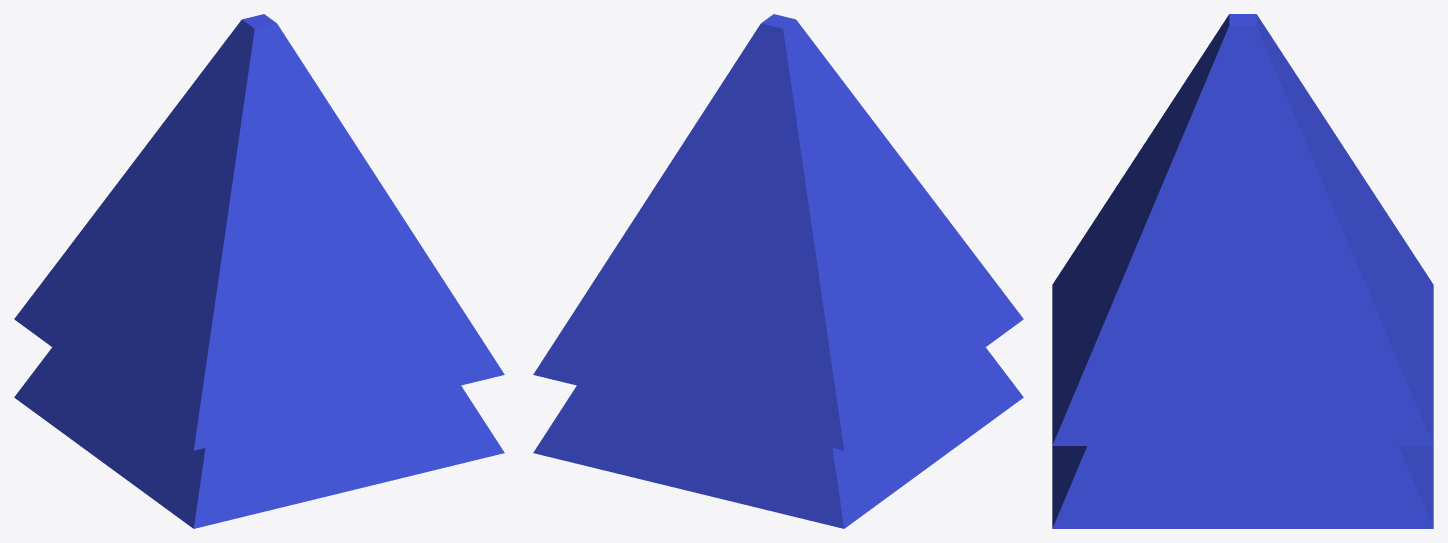
The model's file is player.glb.
The picture shows the model from 3 angles, left to right: view 1: azimuth 30°, elevation 25°; view 2: azimuth 150°, elevation 25°; view 3: azimuth 270°, elevation 25°; orthographic projection. The views are drawn at different scales.
Visible parts, largest first — view 1: Cube.001, Cube.002; view 2: Cube.001, Cube.002; view 3: Cube.001, Cube.002.
Boxes of the visible parts, x1,y1,x2,y2 form: Cube.001: (14,14,504,450); Cube.002: (14,347,504,528); Cube.001: (533,14,1023,450); Cube.002: (533,347,1023,528); Cube.001: (1052,14,1433,445); Cube.002: (1052,446,1433,528).
Size of the model in its own units: 2 by 2.48 by 2.
